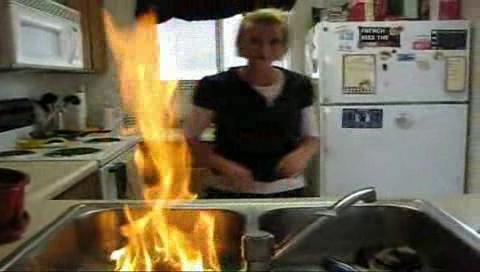fire: (80, 2, 239, 270)
